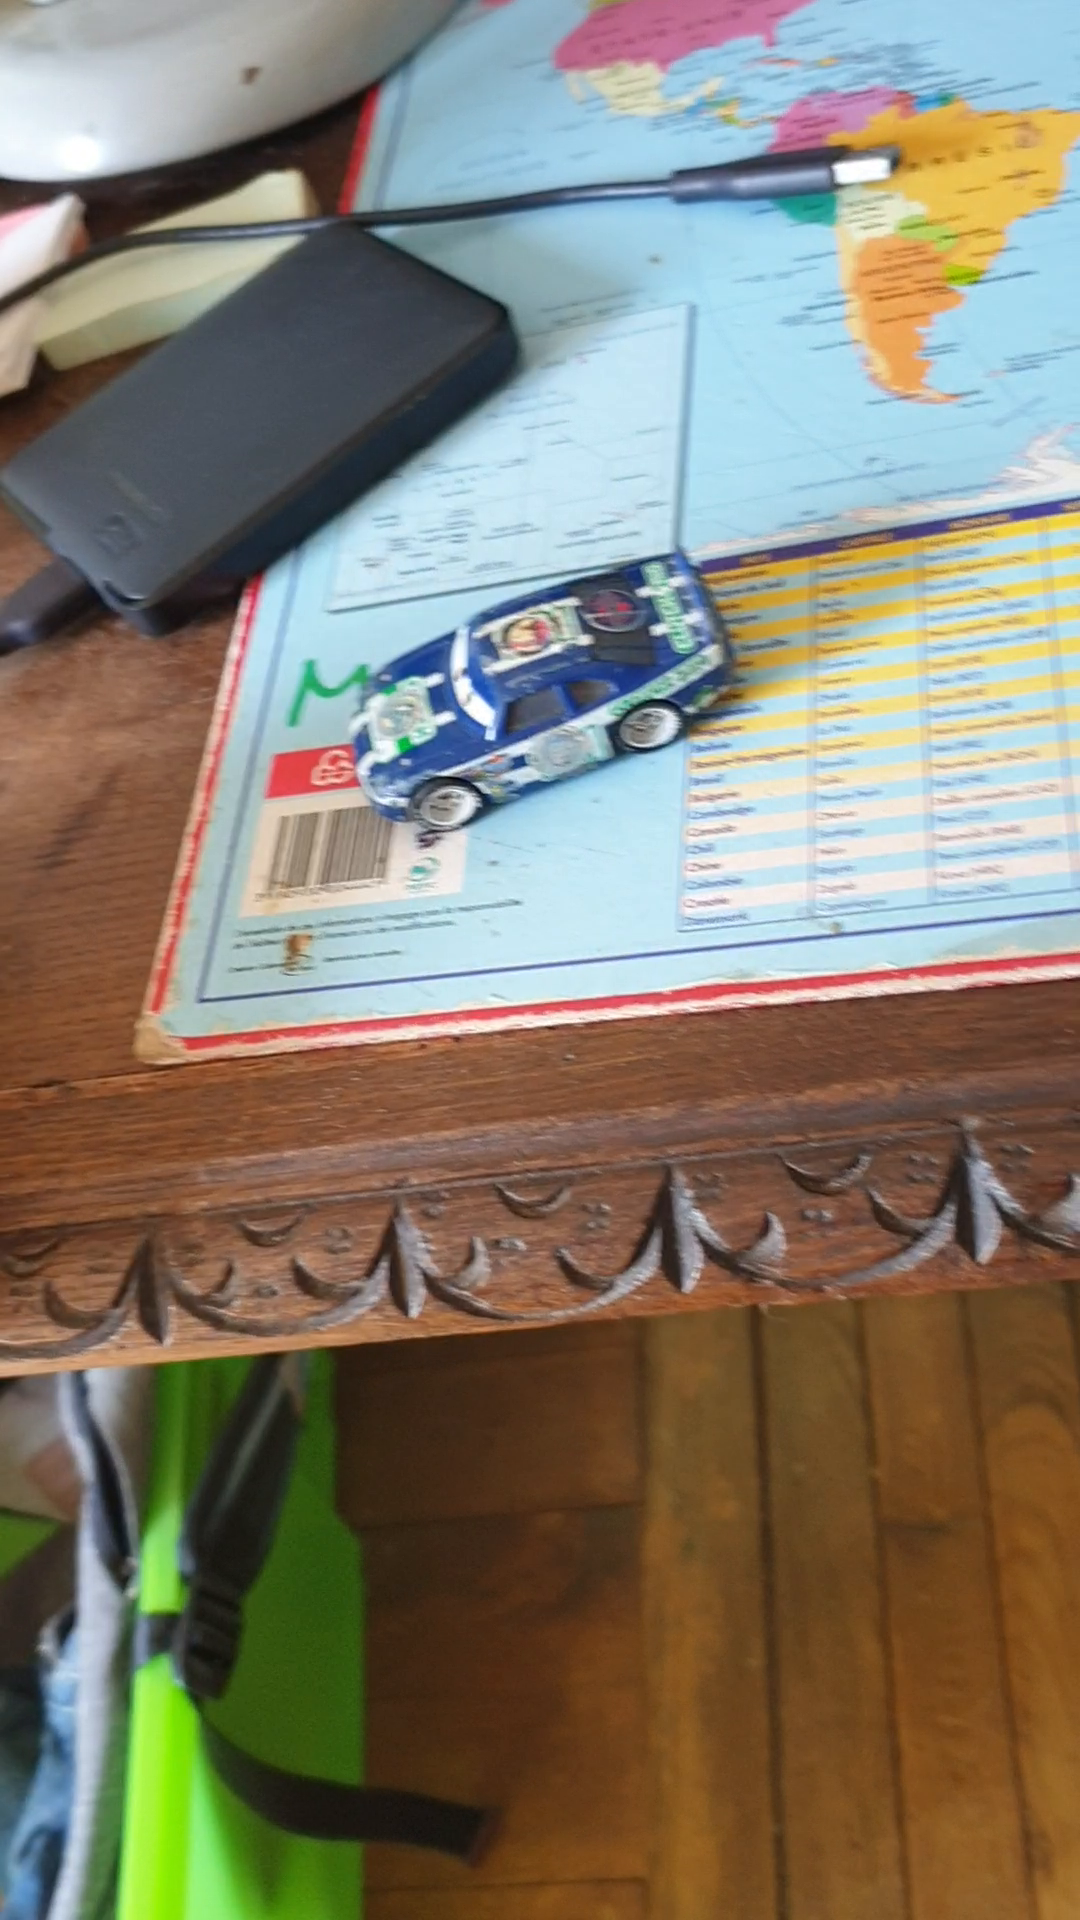cars: (345, 549, 740, 832)
